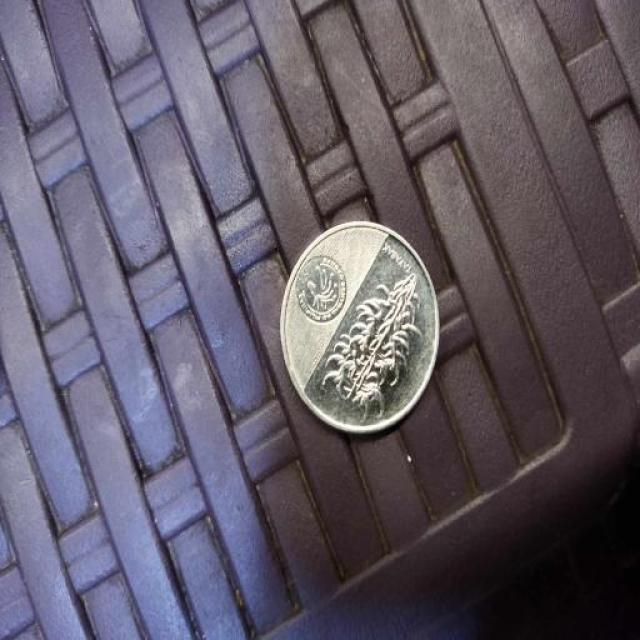5 peso: (281, 213, 444, 438)
